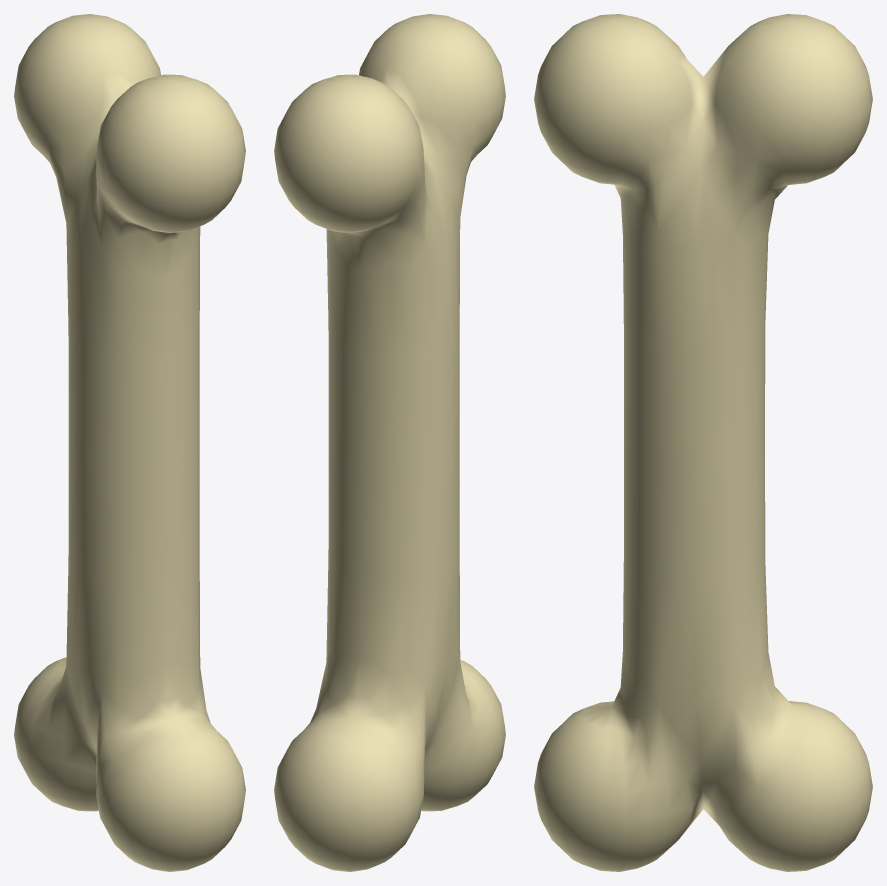
The model's file is bone.fbx.
3 renders of one model, left to right at view 1: azimuth 30°, elevation 25°; view 2: azimuth 150°, elevation 25°; view 3: azimuth 270°, elevation 25°, orthographic. The views are drawn at different scales.
Visible parts, largest first — view 1: Cylinder; view 2: Cylinder; view 3: Cylinder.
Part boxes in pixels (bbox=[...]): Cylinder: bbox=[14, 14, 245, 871]; Cylinder: bbox=[274, 14, 505, 871]; Cylinder: bbox=[534, 14, 872, 871].
Size of the model in its own units: 8.89 by 51.72 by 18.83.
